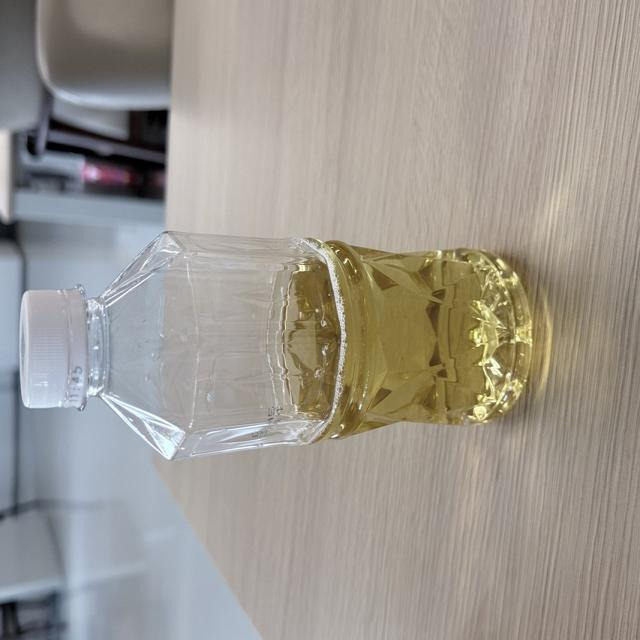medium: (20, 232, 530, 459)
